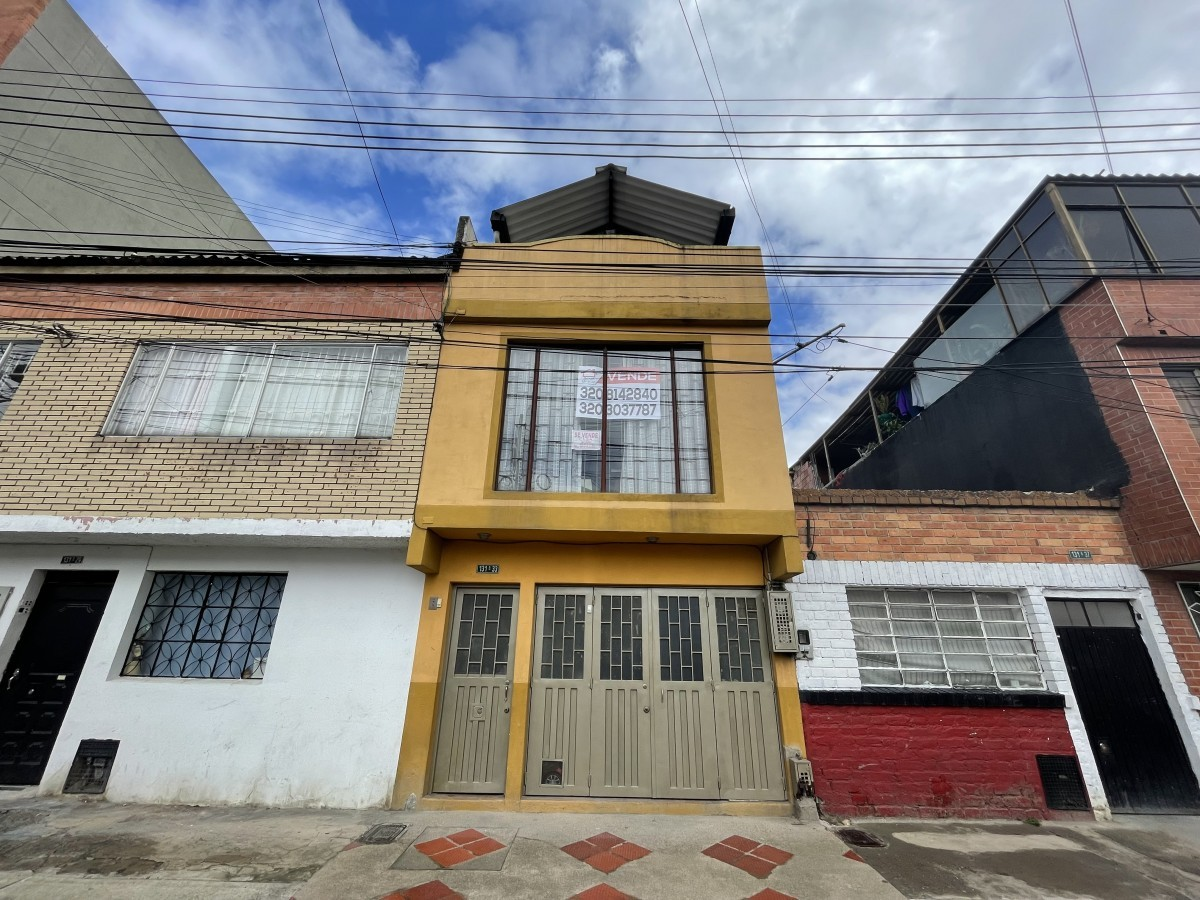House: (776, 148, 1200, 817), (413, 146, 827, 830), (13, 255, 411, 823)
